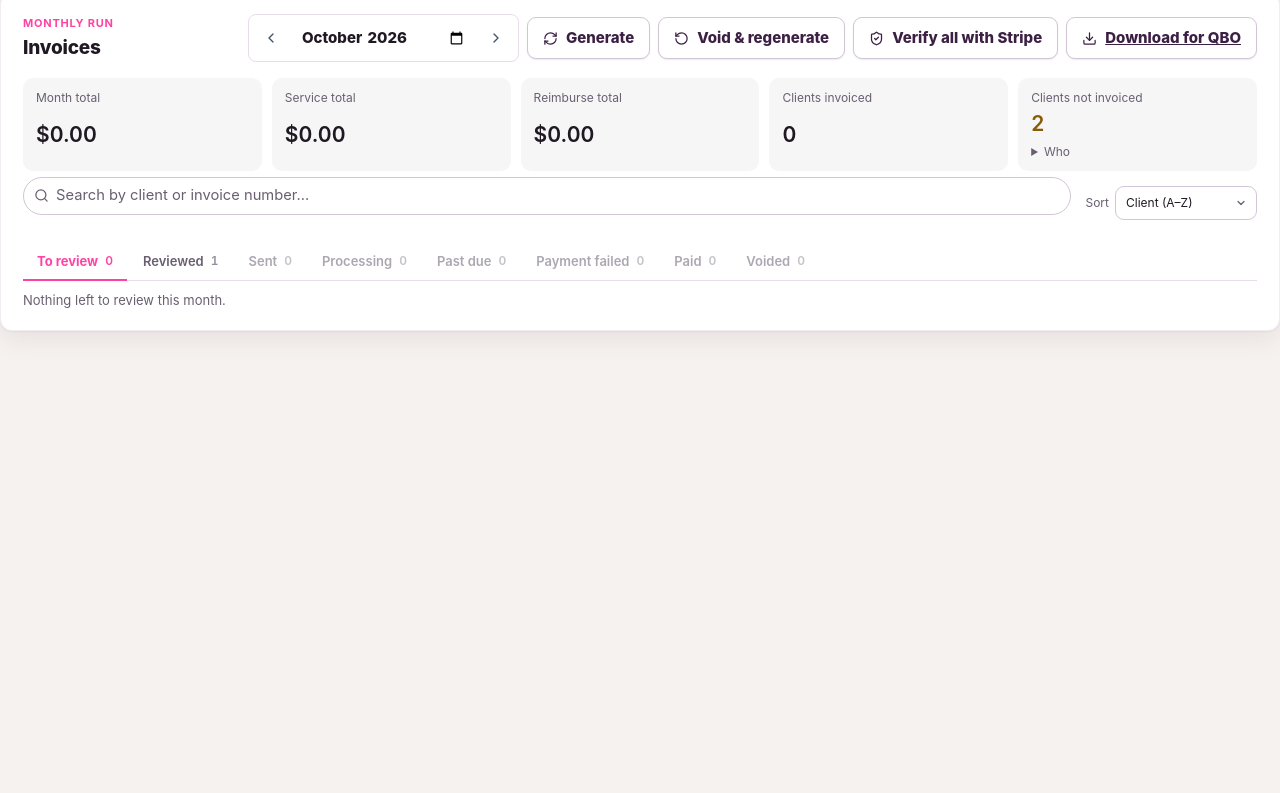
InvoiceMonthRun — sending a master invoice with no recipient chosen › shows the server’s sentence beside the invoice
// A reviewed invoice waits on its own tab, not the one the run opens on.
Click the tab "Reviewed 1": (181, 262) [129,242,232,281]
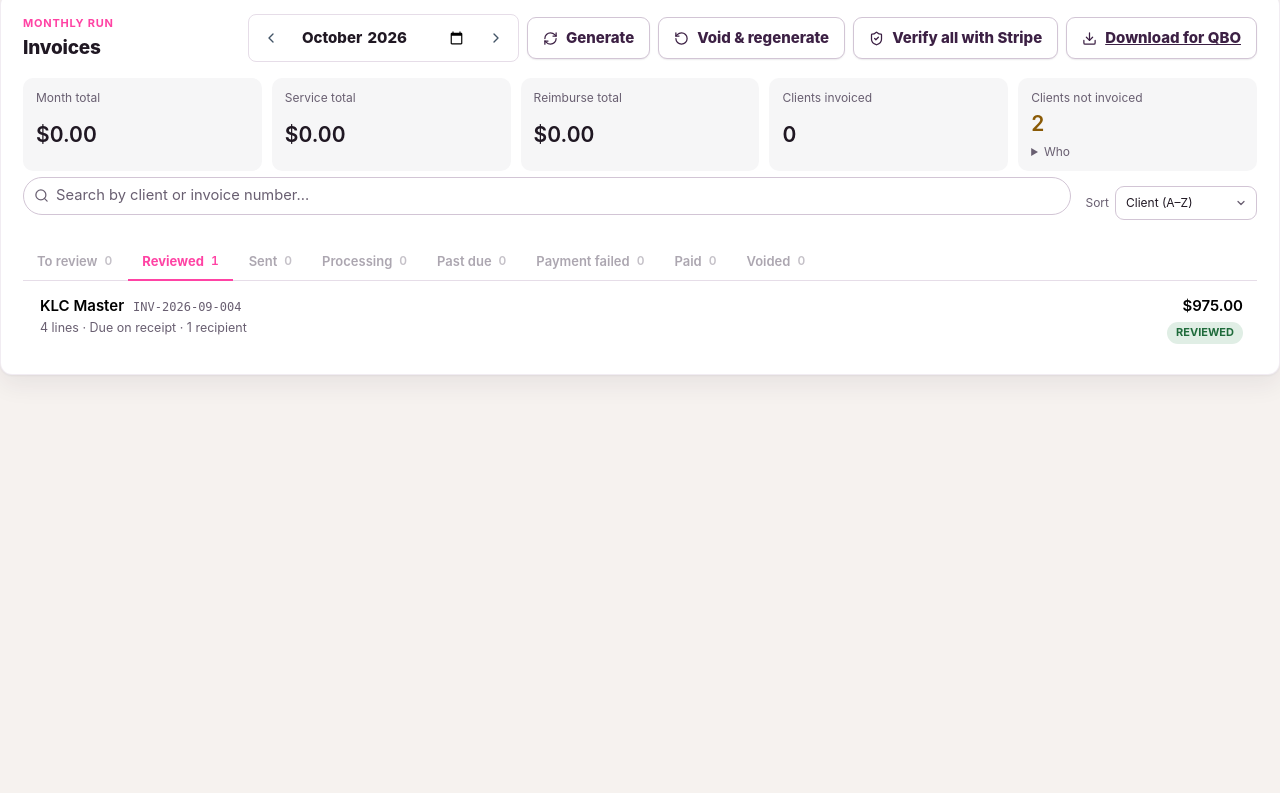
Click the text "INV-2026-09-004": (187, 308) [133,299,242,317]
(page scrolled)
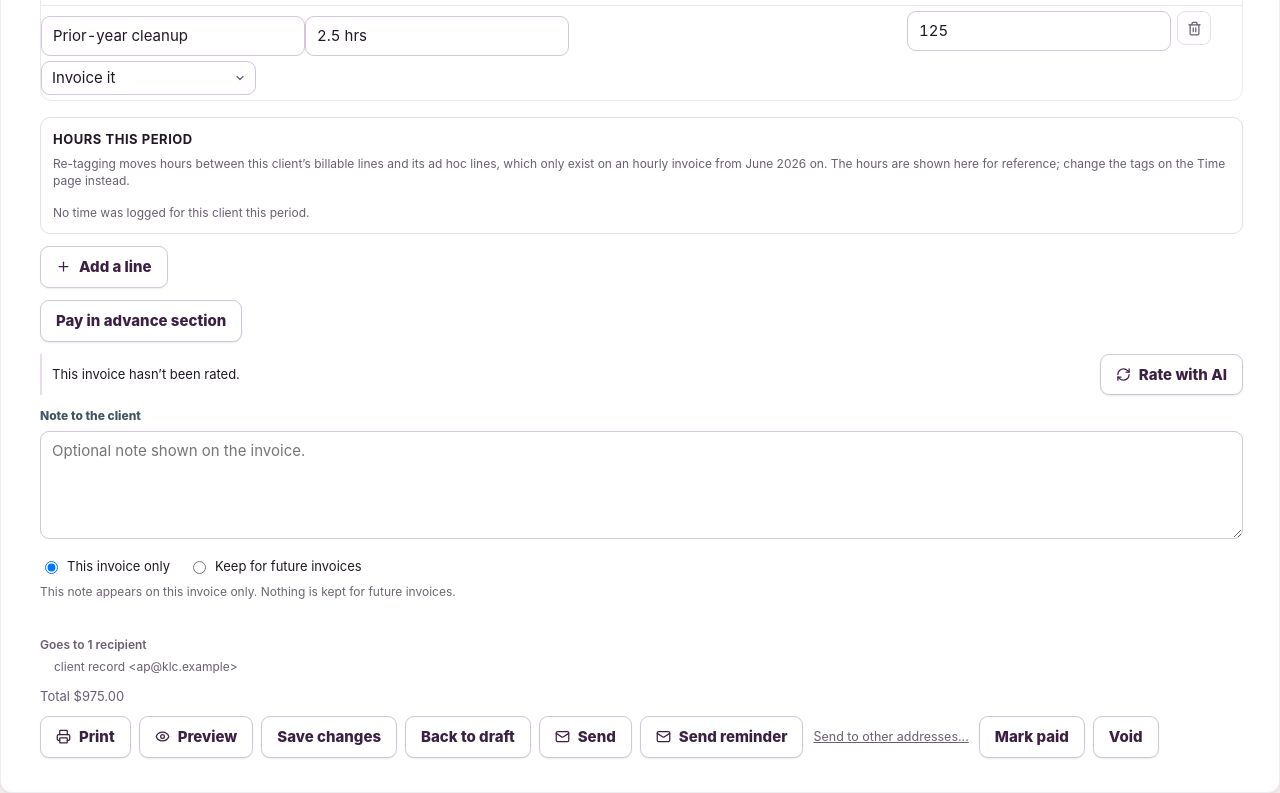
Result: the button "Send" is enabled
Click the button "Send": (585, 737) [539,716,632,758]
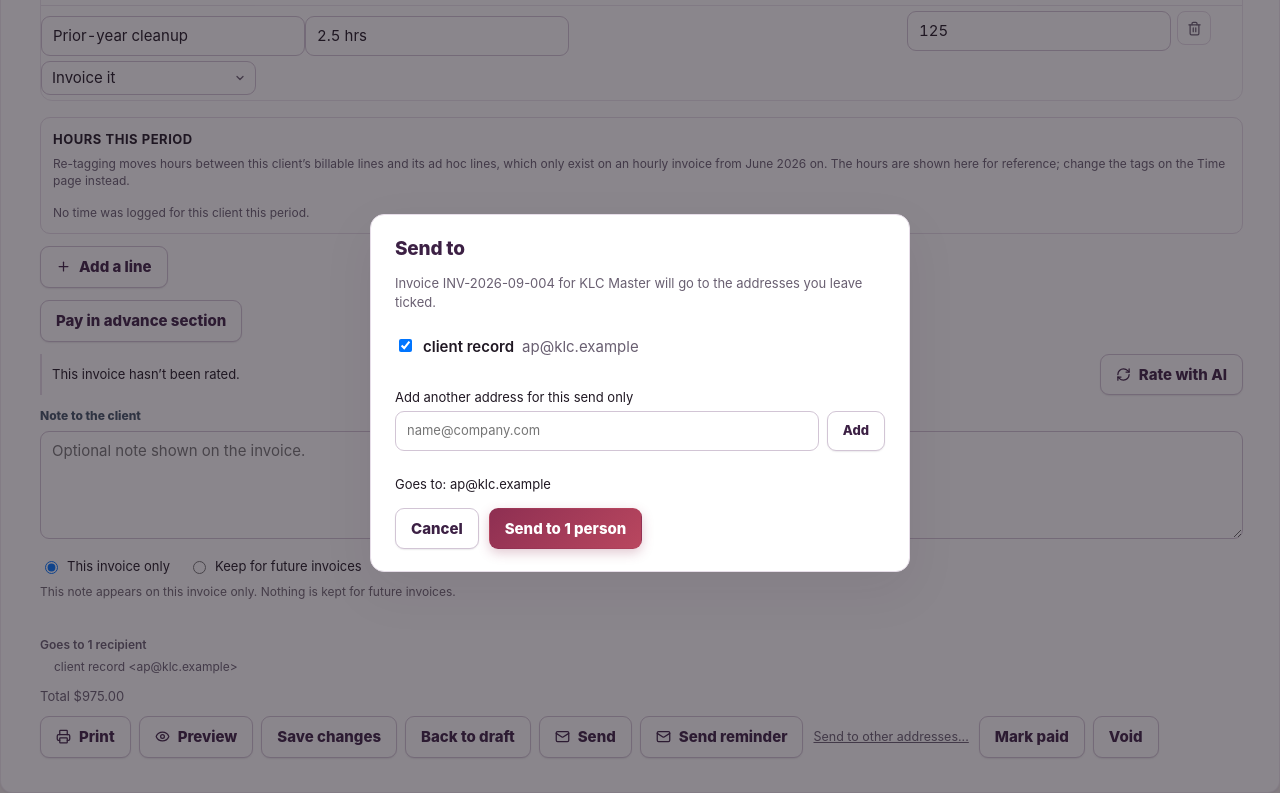
// The recipient picker opens before every send (featreq-34627da1).
Click the button "Send to 1 person": (566, 528) [489,508,642,549]
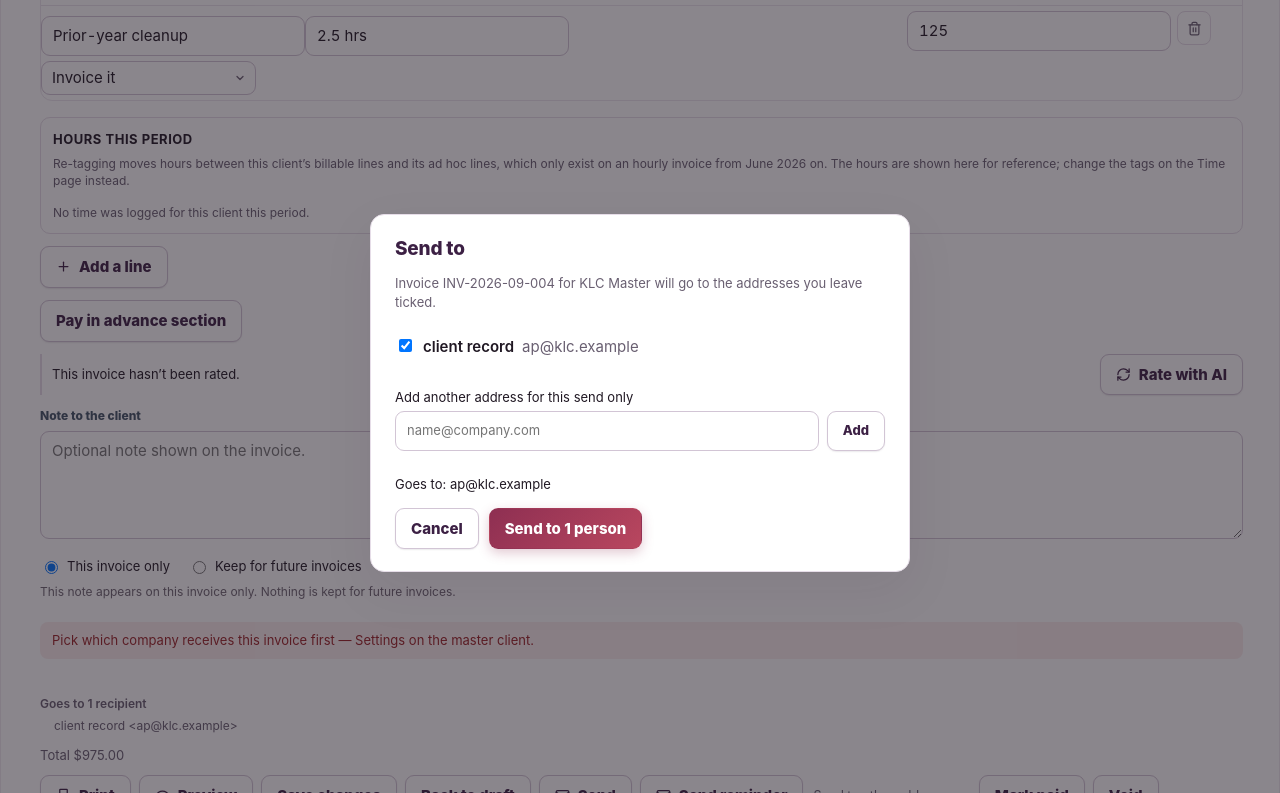
Result: the text "Pick which company receives this invoice first — Settings on the master client." is shown at [40,622,1243,659]
